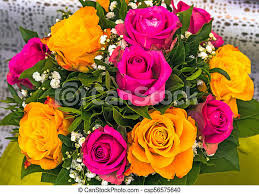lale: (121, 106, 207, 177), (14, 97, 81, 174), (41, 5, 105, 72), (1, 33, 64, 100), (74, 123, 137, 179), (110, 41, 162, 102), (184, 91, 235, 149), (121, 5, 180, 50), (210, 48, 253, 106)
